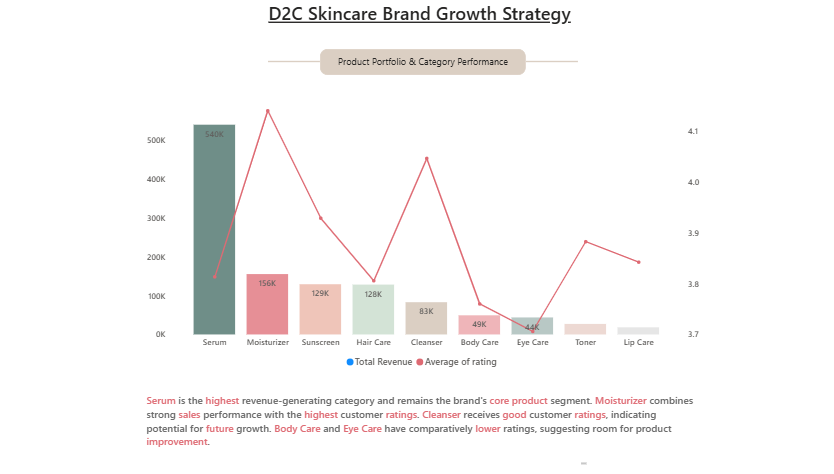

The dashboard page shown, as its layout file describes it:
{"tool":"powerbi","page":{"name":"products & category ","canvas":[1280,720],"ordinal":4},"visuals":[{"type":"textbox","box":[408,10.2,463.9,51.2],"z":0},{"type":"textbox","box":[488.8,86.3,301.5,38],"z":1000},{"type":"shape","box":[412.7,52.7,76.1,103.9],"z":2000},{"type":"shape","box":[790.2,52.7,76.1,103.9],"z":3000},{"type":"textbox","box":[267.8,686.3,616.1,13.2],"z":4000},{"type":"textbox","box":[76.1,526.8,541.5,142],"z":5000},{"type":"textbox","box":[229.8,585.4,819.5,101],"z":6000},{"type":"lineClusteredColumnComboChart","fields":{"Category":["2  Products.category"],"Y":["1  Customers.Total Revenue"],"Y2":["Avg(5  Reviews.rating)"]},"box":[229.8,155.1,819.5,408.3],"z":7000}]}

Visuals, with their boxes in screenshot pixels (x1, y1, x2, y2), scaled from the page's 1280x720 canvas onto the 834x474 screenshot:
textbox: 266, 7, 568, 40
textbox: 318, 57, 515, 82
shape: 269, 35, 318, 103
shape: 515, 35, 564, 103
textbox: 174, 452, 576, 461
textbox: 50, 347, 402, 440
textbox: 150, 385, 684, 452
lineClusteredColumnComboChart - 2  Products.category x 1  Customers.Total Revenue: 150, 102, 684, 371
